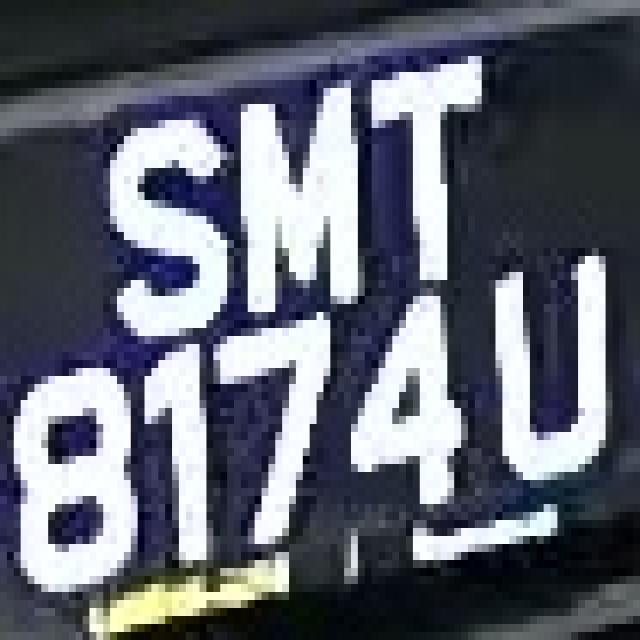1: (151, 336, 234, 600)
4: (351, 272, 482, 544)
7: (200, 304, 351, 552)
8: (7, 336, 144, 600)
M: (227, 56, 358, 304)
S: (83, 112, 255, 360)
T: (337, 32, 509, 272)
U: (461, 248, 633, 504)
